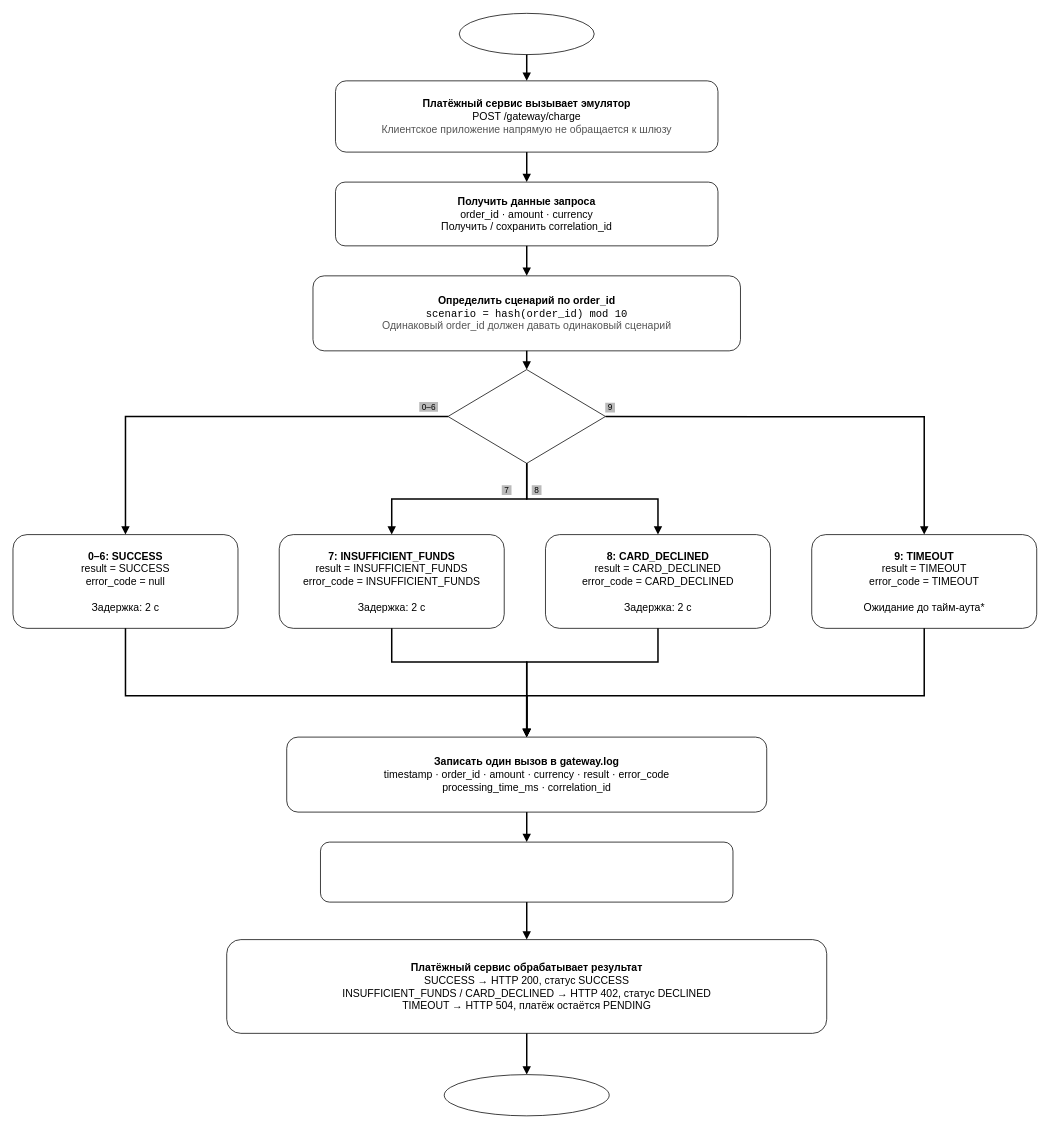
Some shapes in this 1050 by 1129 pixel diagram are drawn without their labels. Here are the shapes that lost their labels. From the top down, the centre of each, then its label:
At point 526,34: "Начало".
At point 526,416: "Какое значение cценария?".
At point 526,871: "Вернуть ответ эмулятора платёжному сервису JSON: order_id, result, error_code".
At point 526,1095: "Конец".
